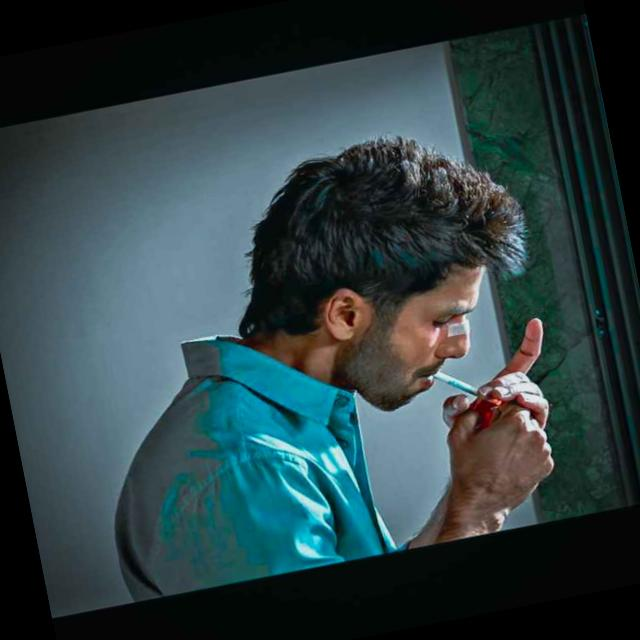cigarette: (430, 361, 492, 412)
